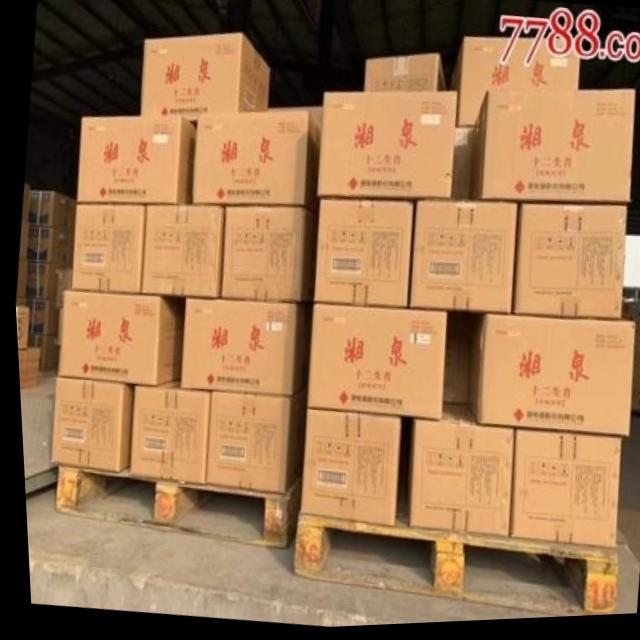box: (465, 314, 630, 441), (466, 97, 635, 208), (304, 311, 442, 422), (315, 96, 456, 203), (403, 402, 509, 540), (500, 433, 618, 552), (510, 207, 624, 324), (176, 297, 308, 395), (54, 286, 182, 386), (403, 205, 516, 318), (192, 113, 320, 212), (294, 413, 397, 527), (445, 43, 578, 129), (312, 201, 411, 311), (202, 386, 302, 494), (75, 115, 193, 206), (137, 38, 272, 115), (218, 207, 315, 305), (44, 373, 130, 473), (123, 379, 206, 482), (140, 205, 222, 297), (67, 202, 145, 292), (361, 58, 445, 94), (617, 306, 640, 420), (440, 315, 468, 408), (23, 257, 72, 299), (26, 221, 74, 263), (27, 188, 72, 230), (451, 129, 473, 205), (23, 294, 58, 333), (24, 331, 57, 369), (271, 107, 321, 131), (13, 301, 27, 350), (50, 268, 69, 303), (17, 216, 28, 256), (16, 252, 25, 292), (20, 183, 29, 219)
